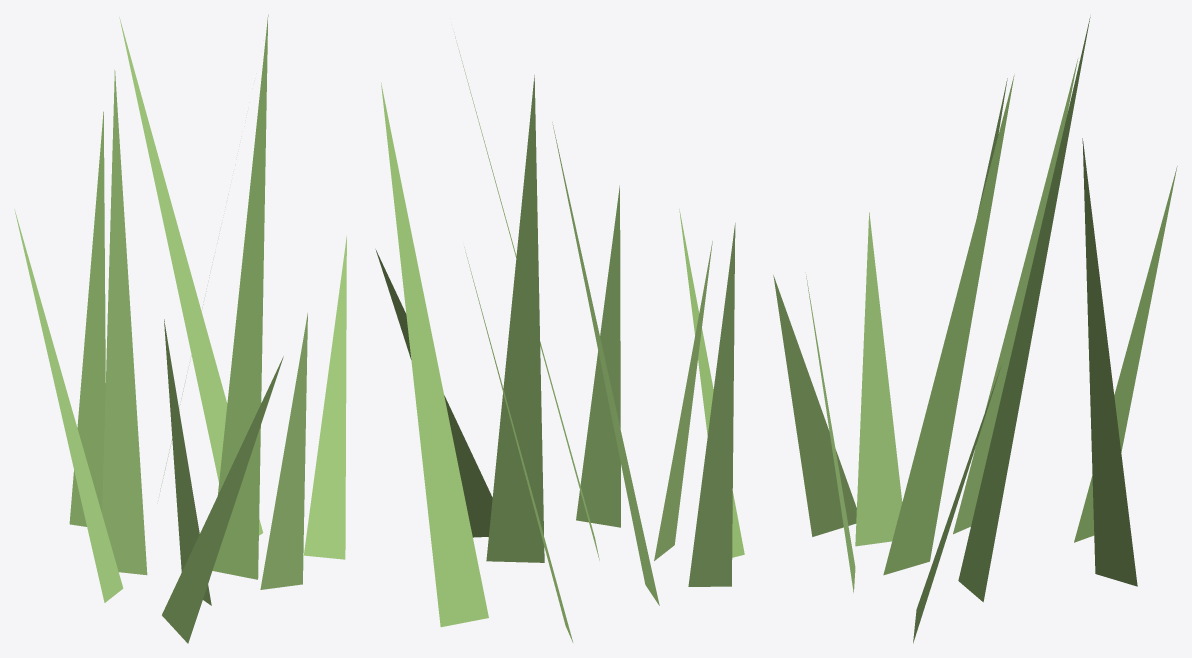
File: Grass_d_TwoS_05.fbx
3 views of the same model, side by side, from view 1: azimuth 30°, elevation 25°; view 2: azimuth 150°, elevation 25°; view 3: azimuth 270°, elevation 25° (orthographic). The views are drawn at different scales.
Parts seen in each view (by area): view 1: Grass_d_TwoS_05; view 2: Grass_d_TwoS_05; view 3: Grass_d_TwoS_05.
Boxes of the visible parts, left/top/right/bottom form: Grass_d_TwoS_05: left=14, top=14, right=346, bottom=643; Grass_d_TwoS_05: left=375, top=32, right=744, bottom=642; Grass_d_TwoS_05: left=773, top=17, right=1177, bottom=643.
Size of the model in its own units: 31.88 by 47.82 by 31.57.
